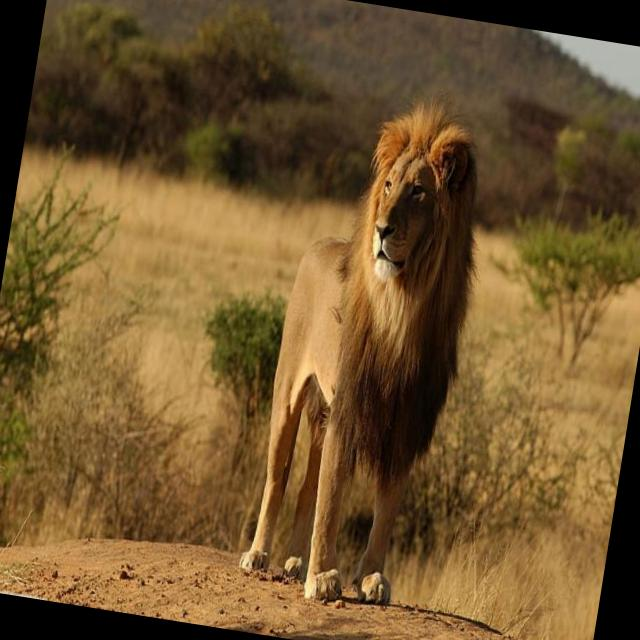lions: (151, 38, 546, 640)
